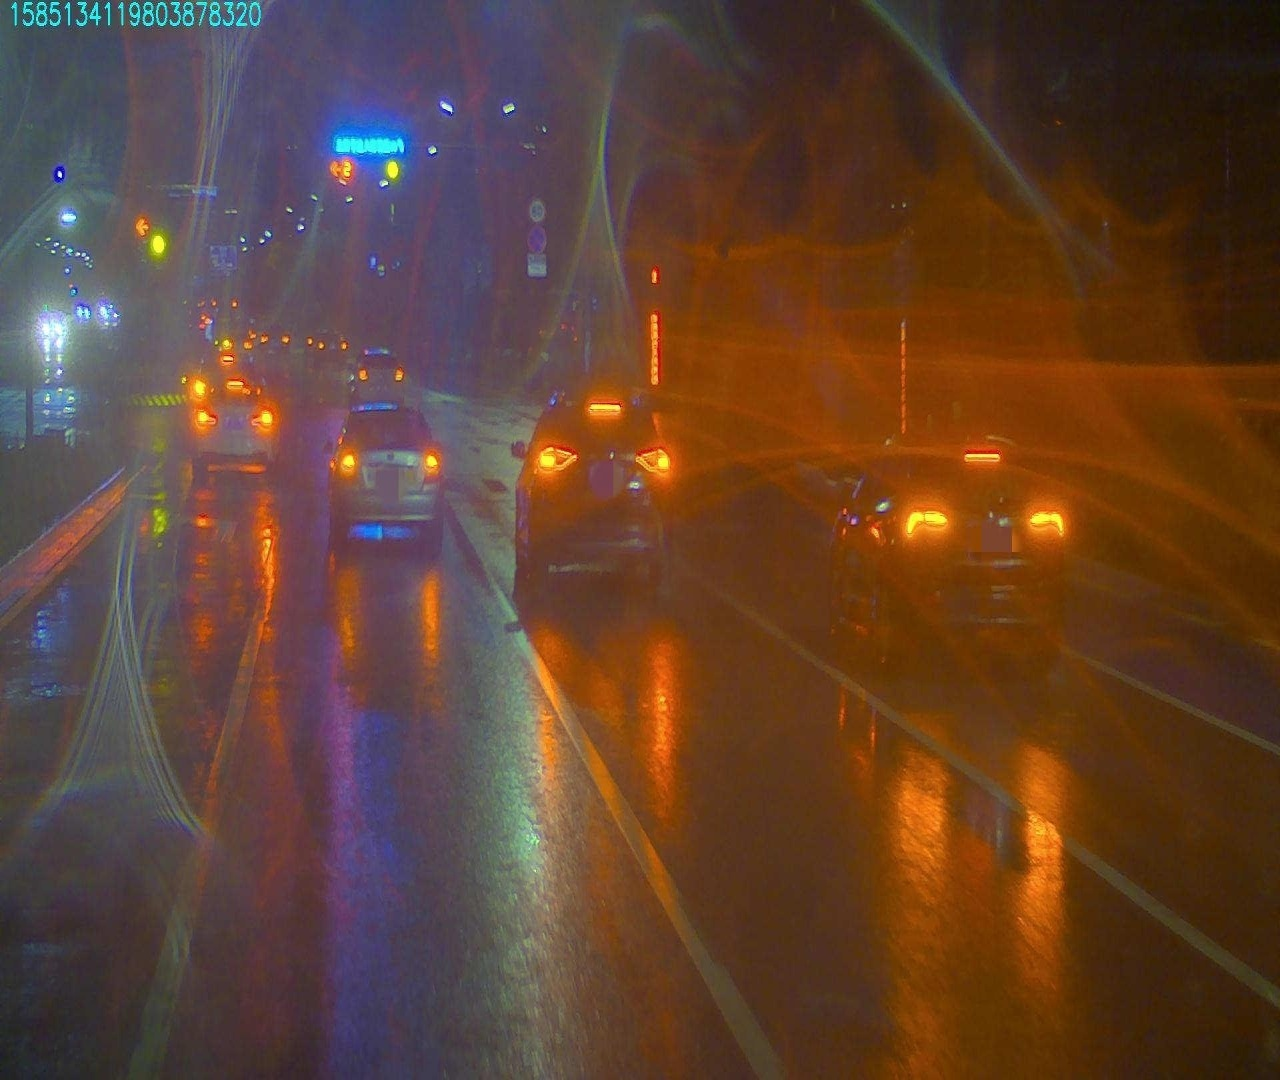red: (328, 163, 351, 181)
yellow: (382, 160, 400, 186)
